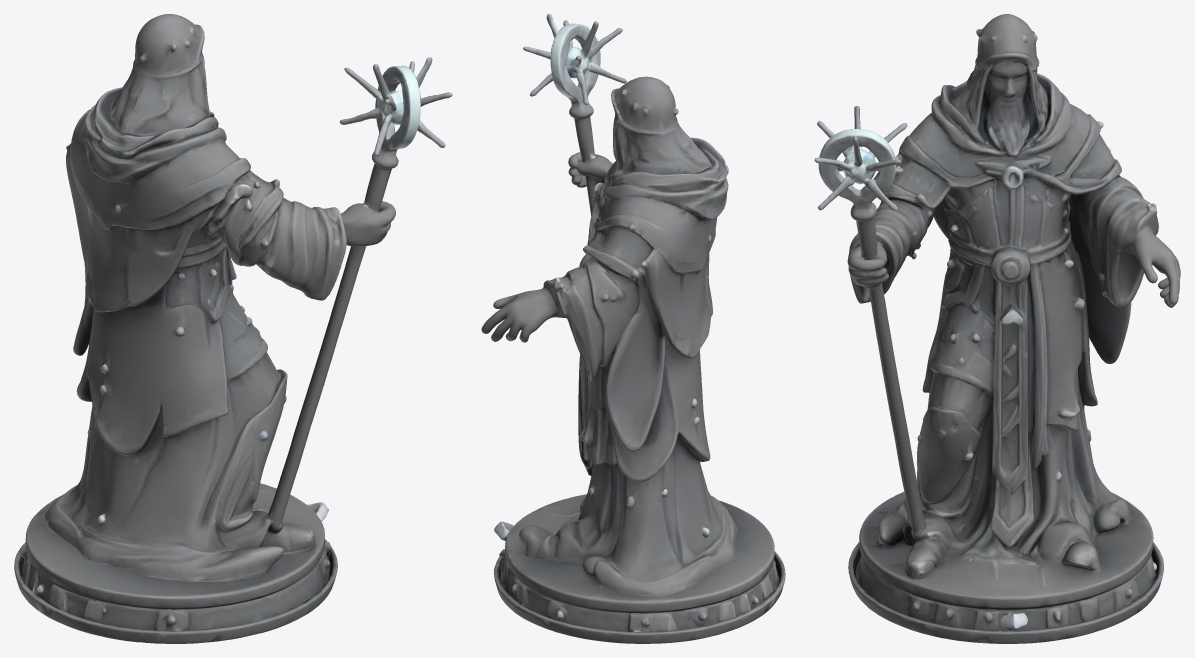
File: plaza-statue-mage.glb
3 renders of one model, left to right at view 1: azimuth 30°, elevation 25°; view 2: azimuth 150°, elevation 25°; view 3: azimuth 270°, elevation 25°, orthographic. The views are drawn at different scales.
Parts seen in each view (by area): view 1: tripo_node_4300dded-a8a8-4d4e-8a5b-c057ffe4fb71; view 2: tripo_node_4300dded-a8a8-4d4e-8a5b-c057ffe4fb71; view 3: tripo_node_4300dded-a8a8-4d4e-8a5b-c057ffe4fb71.
Part boxes in pixels (box(x1,y1,x2,y2)): tripo_node_4300dded-a8a8-4d4e-8a5b-c057ffe4fb71: box(14, 14, 452, 643); tripo_node_4300dded-a8a8-4d4e-8a5b-c057ffe4fb71: box(481, 14, 785, 643); tripo_node_4300dded-a8a8-4d4e-8a5b-c057ffe4fb71: box(814, 14, 1180, 643).
Size of the model in its own units: 2.4 by 4 by 2.38.
Materials: 1 (1 with a texture image).
